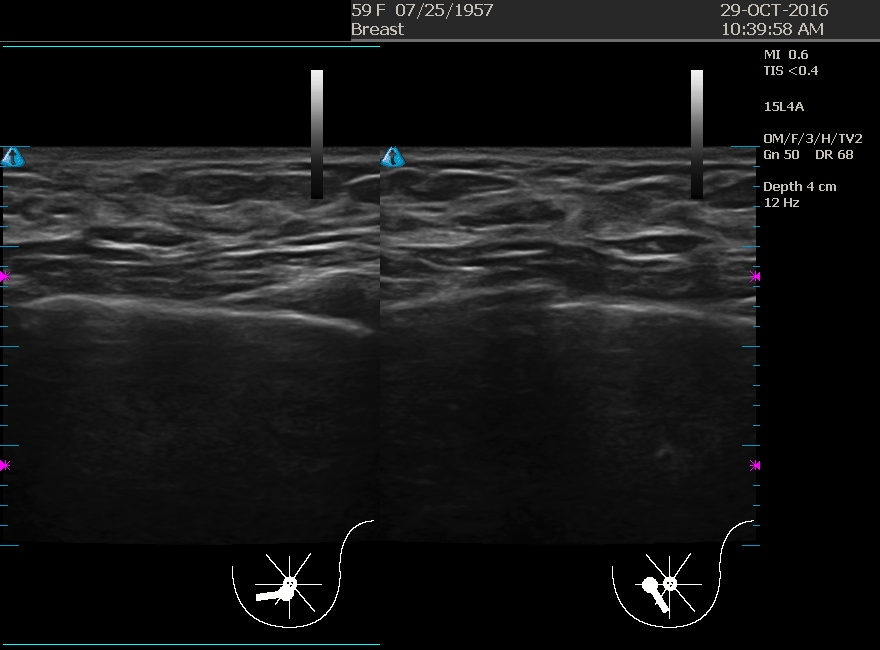BIRADS_2: (389, 175, 589, 375)
BIRADS_3: (33, 150, 233, 350)
